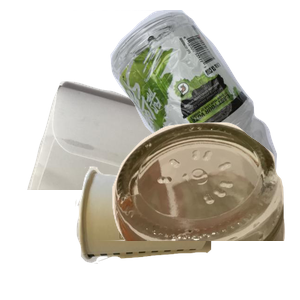glass: (89, 120, 300, 300)
paper: (25, 79, 265, 259)
plastic: (73, 10, 300, 190)
trash: (73, 164, 278, 300)
